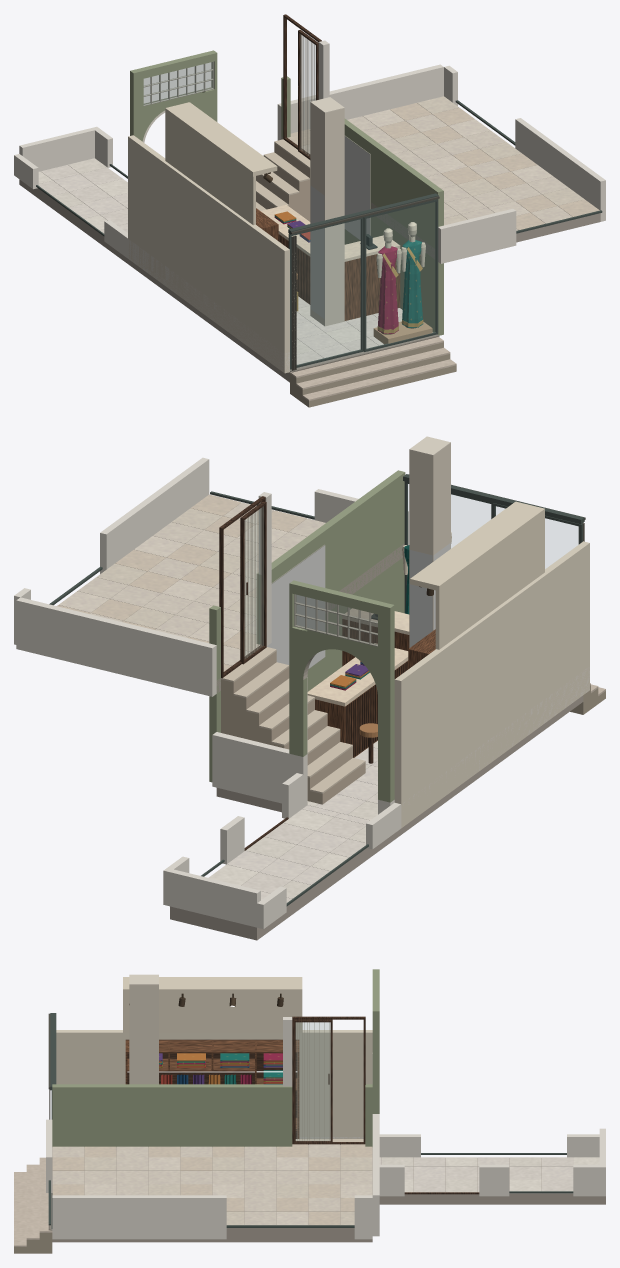
File: Boutique-track.glb
The picture shows the model from 3 angles, top to bottom: view 1: azimuth 30°, elevation 25°; view 2: azimuth 150°, elevation 25°; view 3: azimuth 270°, elevation 25°; orthographic projection. The views are drawn at different scales.
Visible parts, largest first — view 1: Room shell and flooring, Sliding entrance - fixed glass display, Sliding entrance - closed left glass leaf, Track lighting, shelf strips and retained soffit, Frontage steps, Stair and sliding door to mezzanine, Existing pillar, Right partition, Rear arched opening to side room C, Cash counter - flush to pillar and wall, Mirror 1 - right partition opposite shelf, Existing glazed transom over rear arch to C (+6 smaller); view 2: Room shell and flooring, Stair and sliding door to mezzanine, Track lighting, shelf strips and retained soffit, Rear arched opening to side room C, Right partition, Existing pillar, Central sales counter and seating, Mirror 1 - right partition opposite shelf, Existing glazed transom over rear arch to C, Sliding entrance - fixed glass display, Mirror 3 - pillar face toward central counter, Cash counter - flush to pillar and wall (+2 smaller); view 3: Room shell and flooring, Right partition, Track lighting, shelf strips and retained soffit, Stair and sliding door to mezzanine, Inward-facing saree shelf, Existing pillar, Frontage steps, Rear arched opening to side room C, Sliding entrance - upper rail and street steps.
Boxes of the visible parts, x1,y1,x2,y2 form: Room shell and flooring: (14, 64, 605, 382); Sliding entrance - fixed glass display: (363, 199, 438, 351); Sliding entrance - closed left glass leaf: (288, 217, 363, 369); Track lighting, shelf strips and retained soffit: (165, 102, 277, 224); Frontage steps: (290, 321, 456, 407); Stair and sliding door to mezzanine: (256, 14, 329, 221); Existing pillar: (310, 97, 344, 326); Right partition: (281, 76, 443, 248); Rear arched opening to side room C: (130, 50, 217, 142); Cash counter - flush to pillar and wall: (344, 234, 400, 320); Mirror 1 - right partition opposite shelf: (344, 135, 370, 240); Existing glazed transom over rear arch to C: (143, 61, 214, 106); Room shell and flooring: (14, 457, 589, 940); Stair and sliding door to mezzanine: (219, 492, 365, 804); Track lighting, shelf strips and retained soffit: (410, 501, 544, 649); Rear arched opening to side room C: (289, 580, 394, 804); Right partition: (209, 470, 405, 680); Existing pillar: (409, 436, 450, 647); Central sales counter and seating: (307, 643, 408, 763); Mirror 1 - right partition opposite shelf: (266, 544, 325, 669); Existing glazed transom over rear arch to C: (294, 594, 377, 646); Sliding entrance - fixed glass display: (404, 481, 492, 613); Mirror 3 - pillar face toward central counter: (410, 550, 432, 647); Cash counter - flush to pillar and wall: (342, 608, 409, 666); Room shell and flooring: (46, 1030, 605, 1242); Right partition: (52, 1084, 372, 1146); Track lighting, shelf strips and retained soffit: (123, 977, 302, 1072); Stair and sliding door to mezzanine: (283, 1016, 365, 1144); Inward-facing saree shelf: (125, 1039, 299, 1138); Existing pillar: (129, 974, 158, 1084); Frontage steps: (14, 1157, 52, 1253); Rear arched opening to side room C: (372, 969, 379, 1113); Sliding entrance - upper rail and street steps: (50, 1013, 56, 1230).
Bounding box in the file's own units: 5.33 × 3.75 × 8.32.
58 materials, 22 textured.
